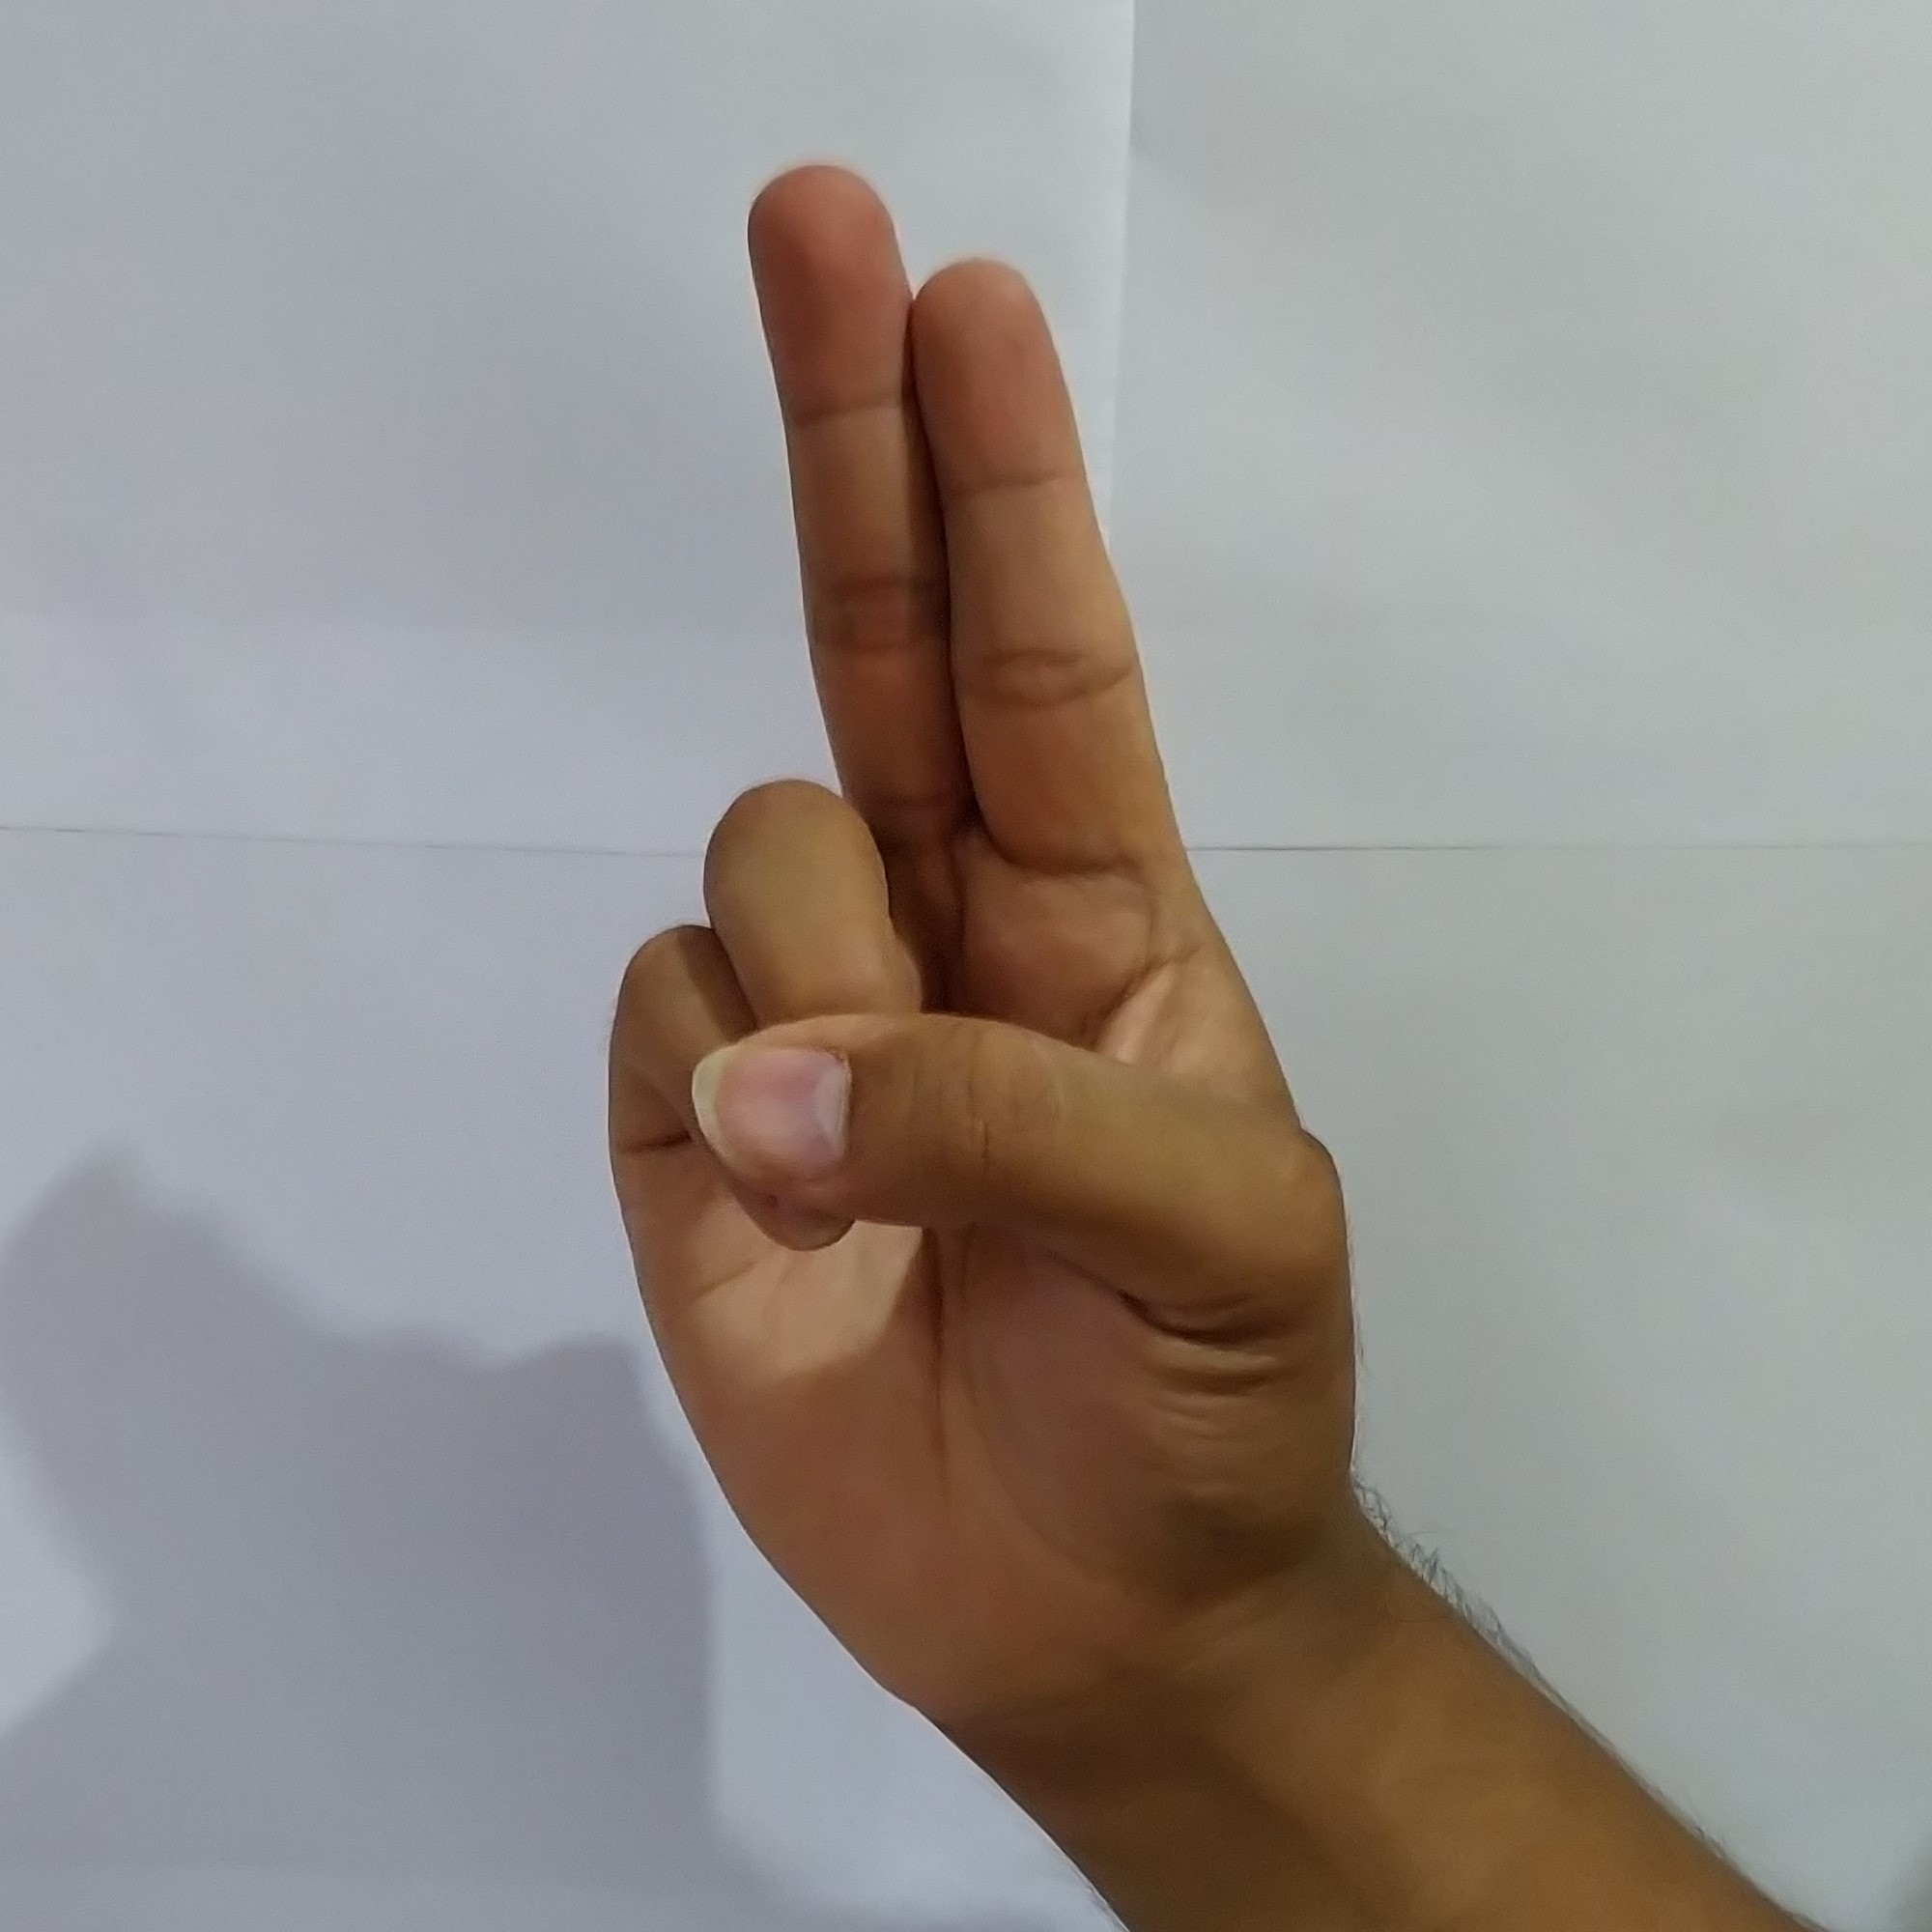U: (564, 126, 1511, 1677)
